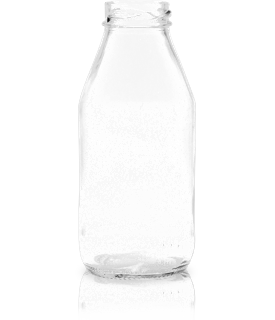glass_bottleww: (46, 1, 233, 308)
